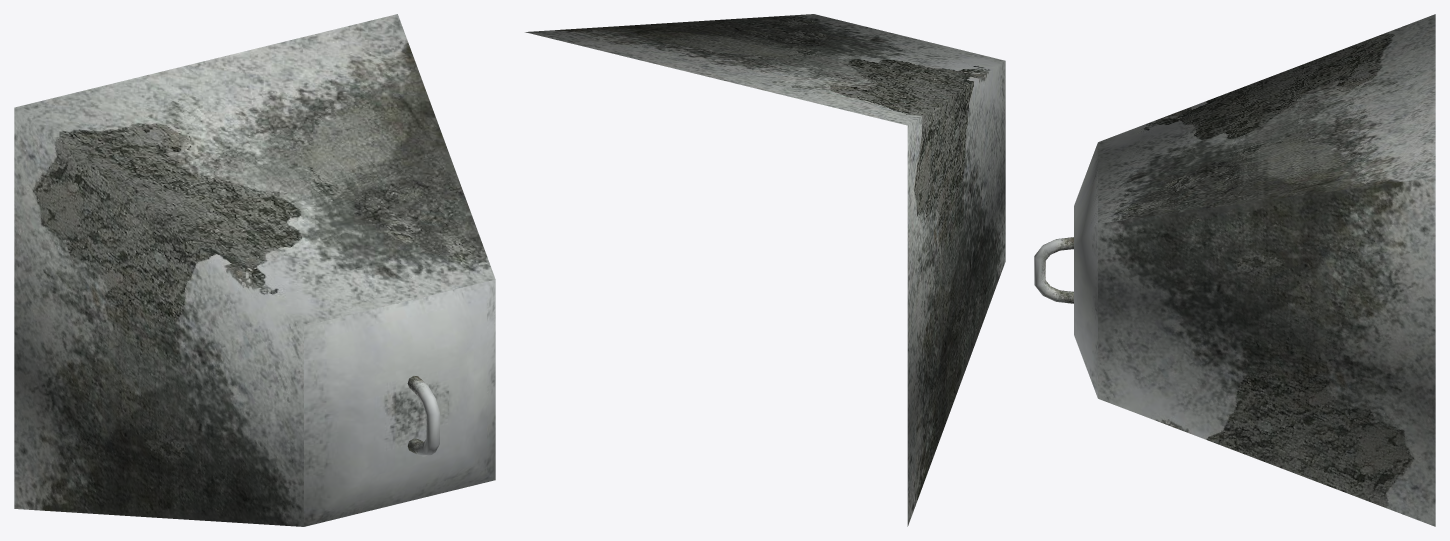
File: military_dragonstooth_snow_d.glb
The picture shows the model from 3 angles, left to right: view 1: azimuth 30°, elevation 25°; view 2: azimuth 150°, elevation 25°; view 3: azimuth 270°, elevation 25°; orthographic projection. The views are drawn at different scales.
Size of the model in its own units: 64 by 64 by 66.56.
1 material, 1 textured.
